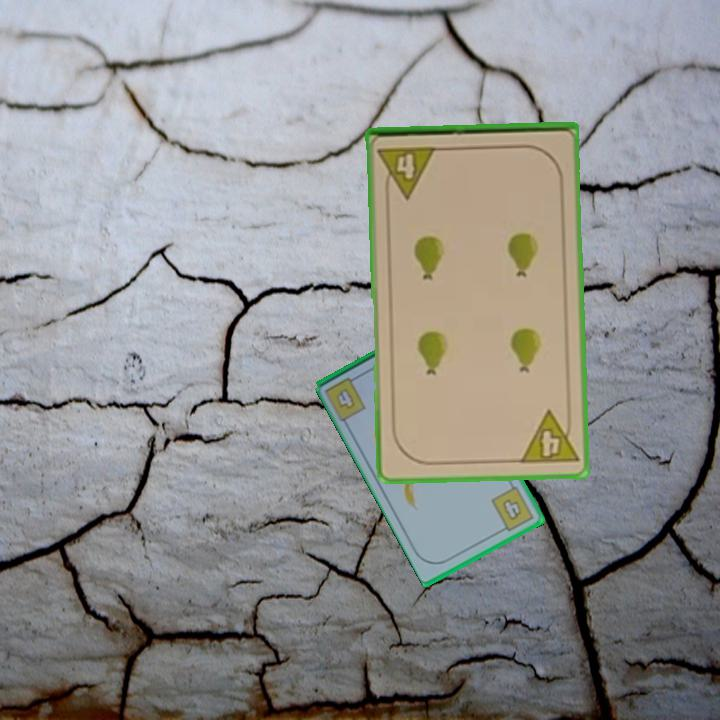4b: (488, 483, 537, 536), (335, 387, 356, 410)
4p: (516, 407, 581, 467), (375, 143, 440, 201)
